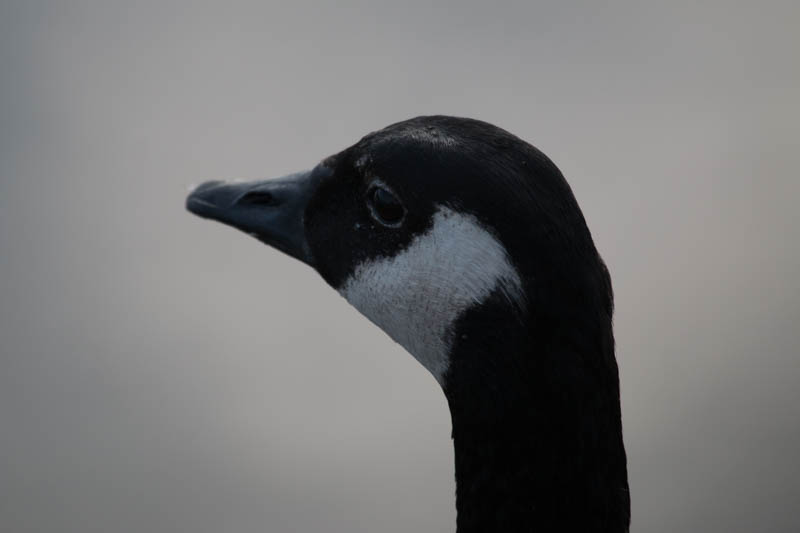goose-head: (184, 115, 613, 399)
